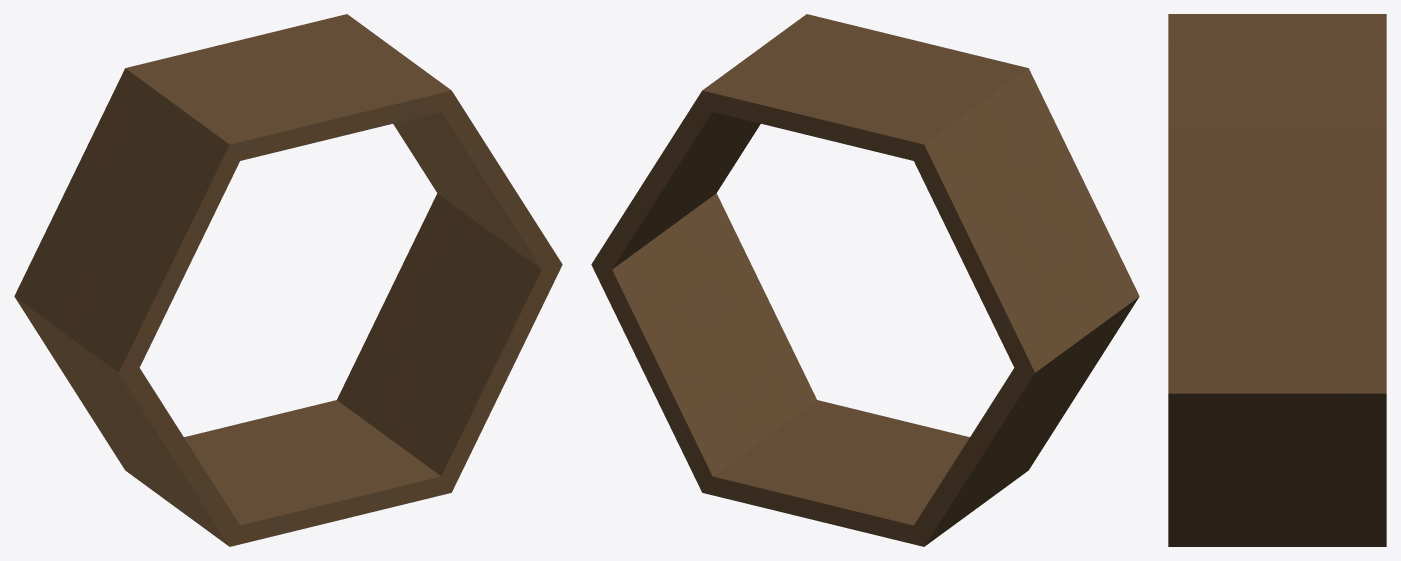
Rendered from Wall_Shelf_03_04.fbx.
3 views of the same model, side by side, from view 1: azimuth 30°, elevation 25°; view 2: azimuth 150°, elevation 25°; view 3: azimuth 270°, elevation 25° (orthographic). The views are drawn at different scales.
Visible parts, largest first — view 1: Wall_Shelf_03_04; view 2: Wall_Shelf_03_04; view 3: Wall_Shelf_03_04.
Part boxes in pixels (left/top/right/bottom): Wall_Shelf_03_04: left=14, top=14, right=562, bottom=546; Wall_Shelf_03_04: left=591, top=14, right=1139, bottom=546; Wall_Shelf_03_04: left=1168, top=14, right=1386, bottom=546.
Size of the model in its own units: 0.8223 by 0.7122 by 0.3353.
